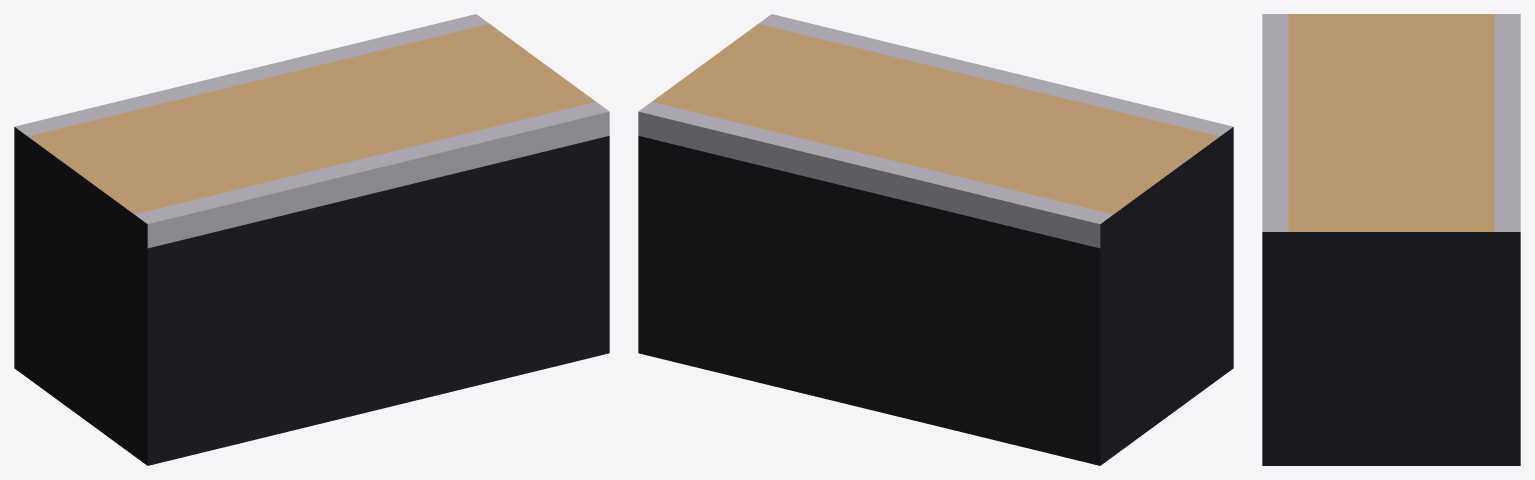
The model's file is ManPad_Half_5_TwoGrind.fbx.
The picture shows the model from 3 angles, left to right: view 1: azimuth 30°, elevation 25°; view 2: azimuth 150°, elevation 25°; view 3: azimuth 270°, elevation 25°; orthographic projection. The views are drawn at different scales.
Visible parts, largest first — view 1: ManPad_Half_5_TwoGrind; view 2: ManPad_Half_5_TwoGrind; view 3: ManPad_Half_5_TwoGrind.
Part boxes in pixels (bbox=[...]): ManPad_Half_5_TwoGrind: bbox=[14, 14, 609, 465]; ManPad_Half_5_TwoGrind: bbox=[638, 14, 1233, 465]; ManPad_Half_5_TwoGrind: bbox=[1262, 14, 1520, 465].
Size of the model in its own units: 10 by 5 by 5.
